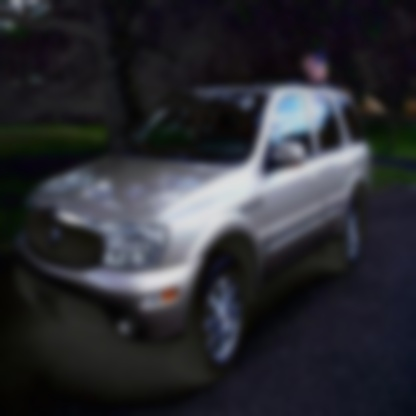Vehicle: (13, 75, 376, 381)
